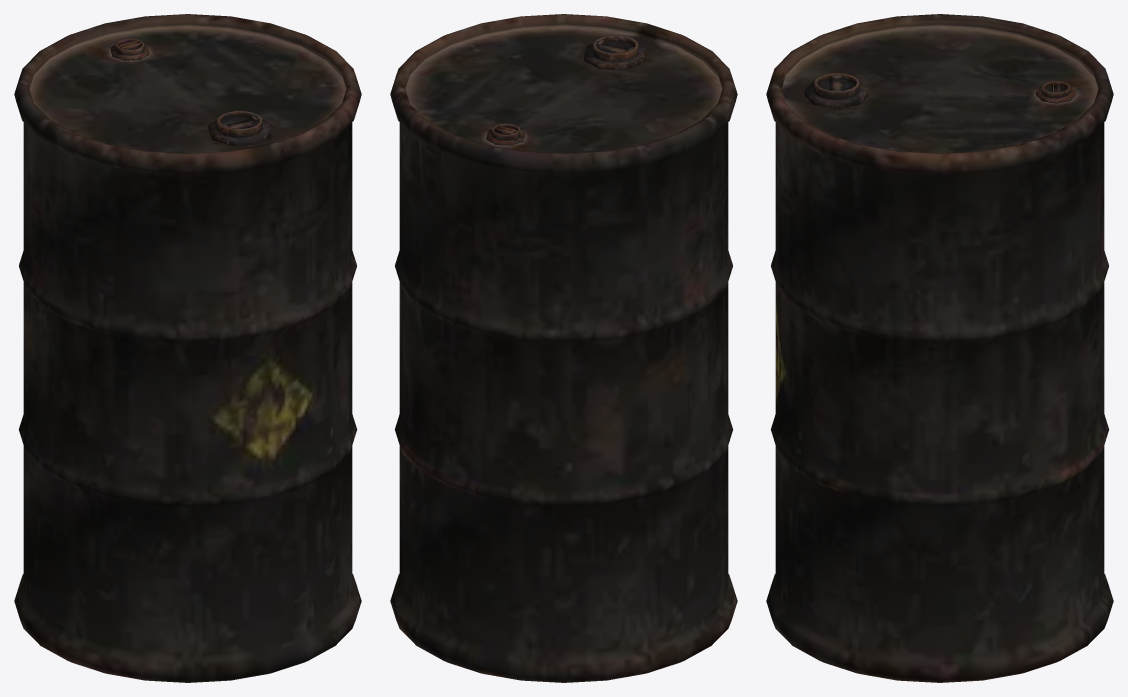
The model's file is oil-drum--1.gltf.
3 views of the same model, side by side, from view 1: azimuth 30°, elevation 25°; view 2: azimuth 150°, elevation 25°; view 3: azimuth 270°, elevation 25° (orthographic).
Visible parts, largest first — view 1: barrel, cap.barrel, cap.base; view 2: barrel, cap.barrel, cap.base; view 3: barrel, cap.barrel, cap.base.
Part boxes in pixels (x1,y1,x2,y2): barrel: (14, 14, 361, 682); cap.barrel: (115, 38, 262, 137); cap.base: (110, 44, 270, 145); barrel: (390, 14, 737, 682); cap.barrel: (491, 35, 638, 140); cap.base: (486, 44, 646, 145); barrel: (766, 14, 1113, 682); cap.barrel: (813, 73, 1070, 99); cap.base: (804, 80, 1076, 108).
Size of the model in its own units: 0.5338 by 0.9 by 0.5338.
Materials: 3 (3 with a texture image).
